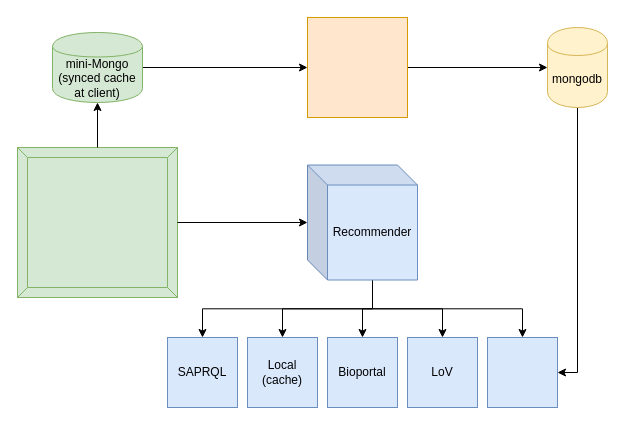
This 625x425 diagram has some shape labels left out. The shapes that lost their labels are listed below. From the top down, each one's centre as x and y in pixels, then its label:
the point at 357,67: Meteor Backend
the point at 97,222: Frontend
the point at 522,372: Local Knowledge Base (planned)
